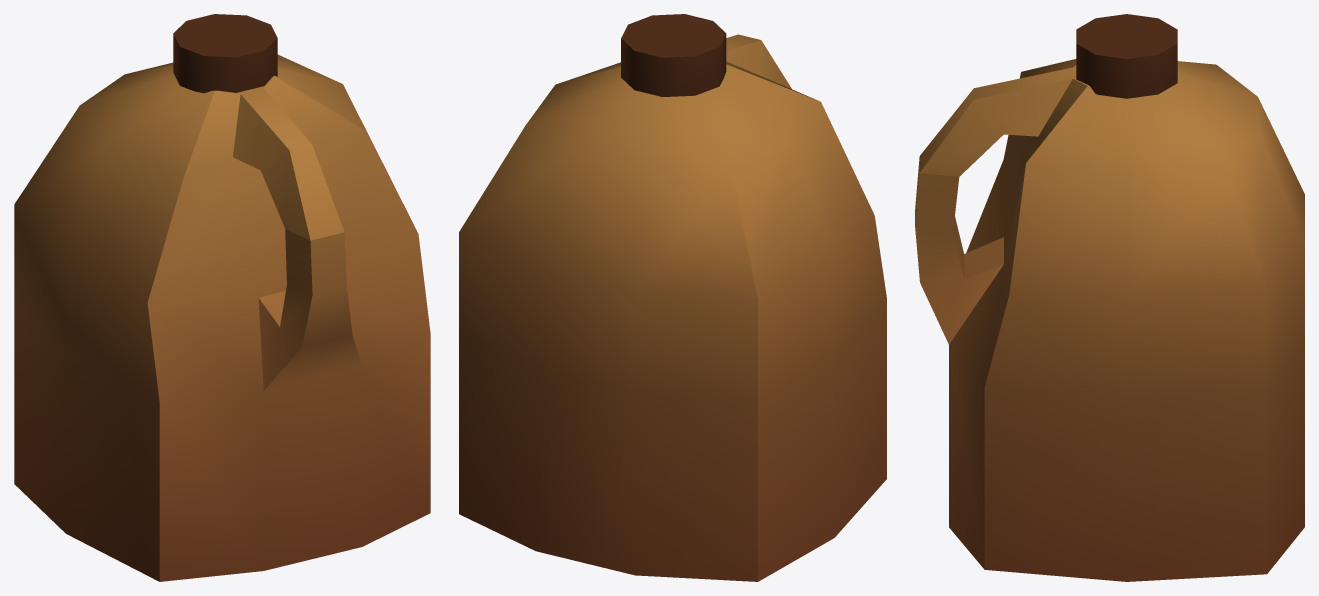
The model's file is MilkChocolate.fbx.
The picture shows the model from 3 angles, left to right: view 1: azimuth 30°, elevation 25°; view 2: azimuth 150°, elevation 25°; view 3: azimuth 270°, elevation 25°; orthographic projection.
Parts seen in each view (by area): view 1: MilkChocolate; view 2: MilkChocolate; view 3: MilkChocolate.
Boxes of the visible parts, x1,y1,x2,y2 form: MilkChocolate: [14, 14, 430, 581]; MilkChocolate: [459, 14, 886, 581]; MilkChocolate: [915, 14, 1304, 581].
Size of the model in its own units: 40 by 41.66 by 55.
